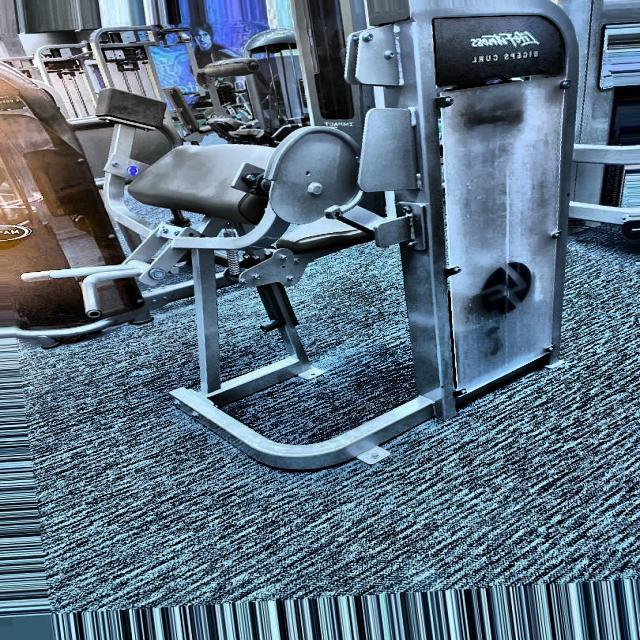bicep_curl_machine: (6, 19, 416, 498), (458, 46, 544, 74)
